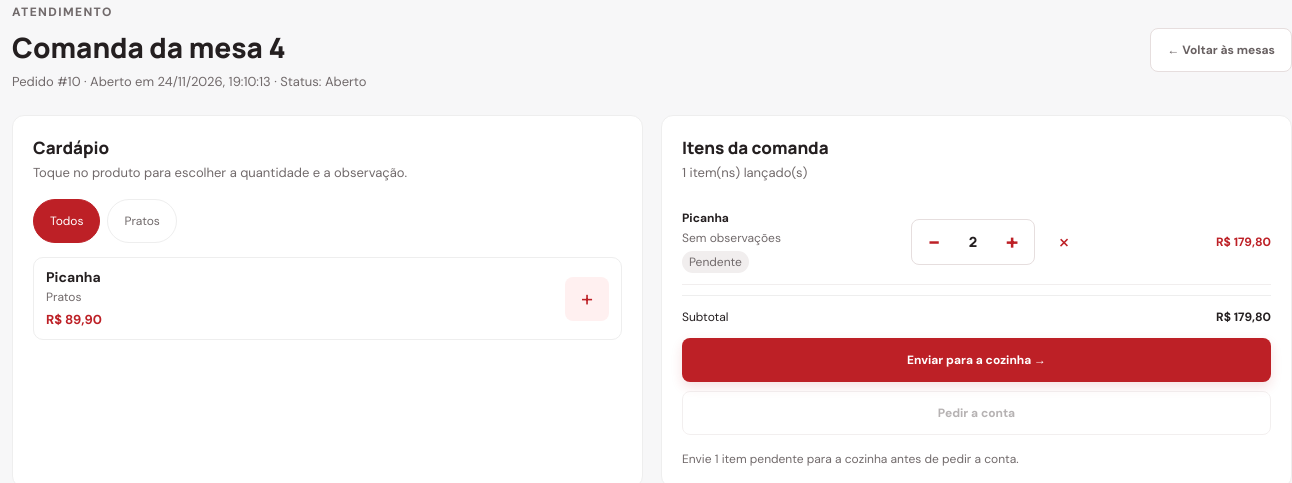
it: Comanda: adicionar item em modal (spec 012) › item pendente: o seletor −/+ salva a quantidade a cada toque
The width and height of the screenshot is (1292, 483).
Click the button named "Aumentar" at x=1012, y=242, box [990,220,1034,264]
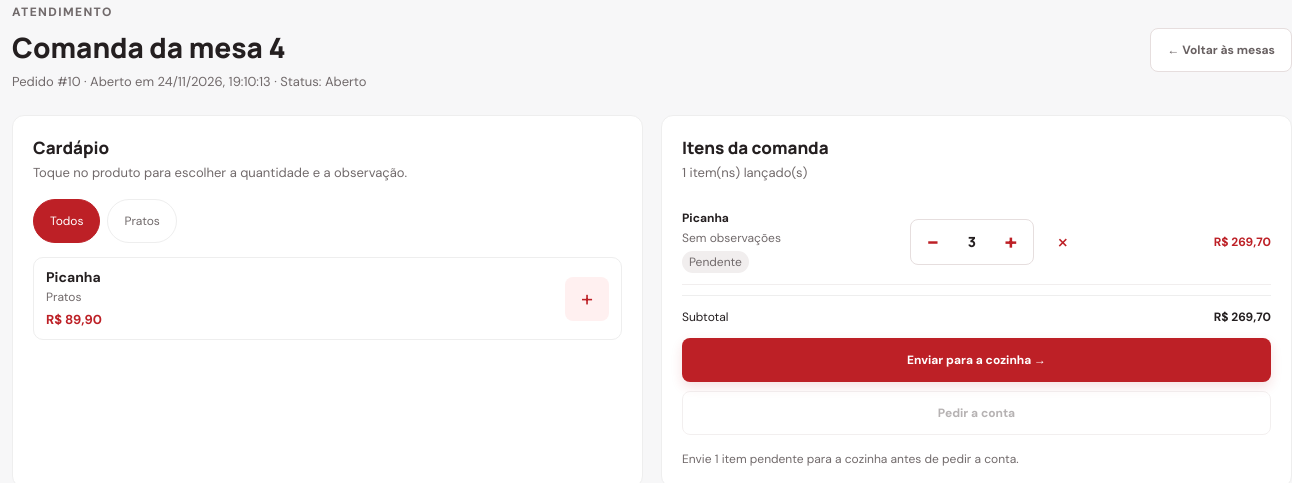
Check: the element named "Quantidade de Picanha" shows "3", box [968,232,976,251]
